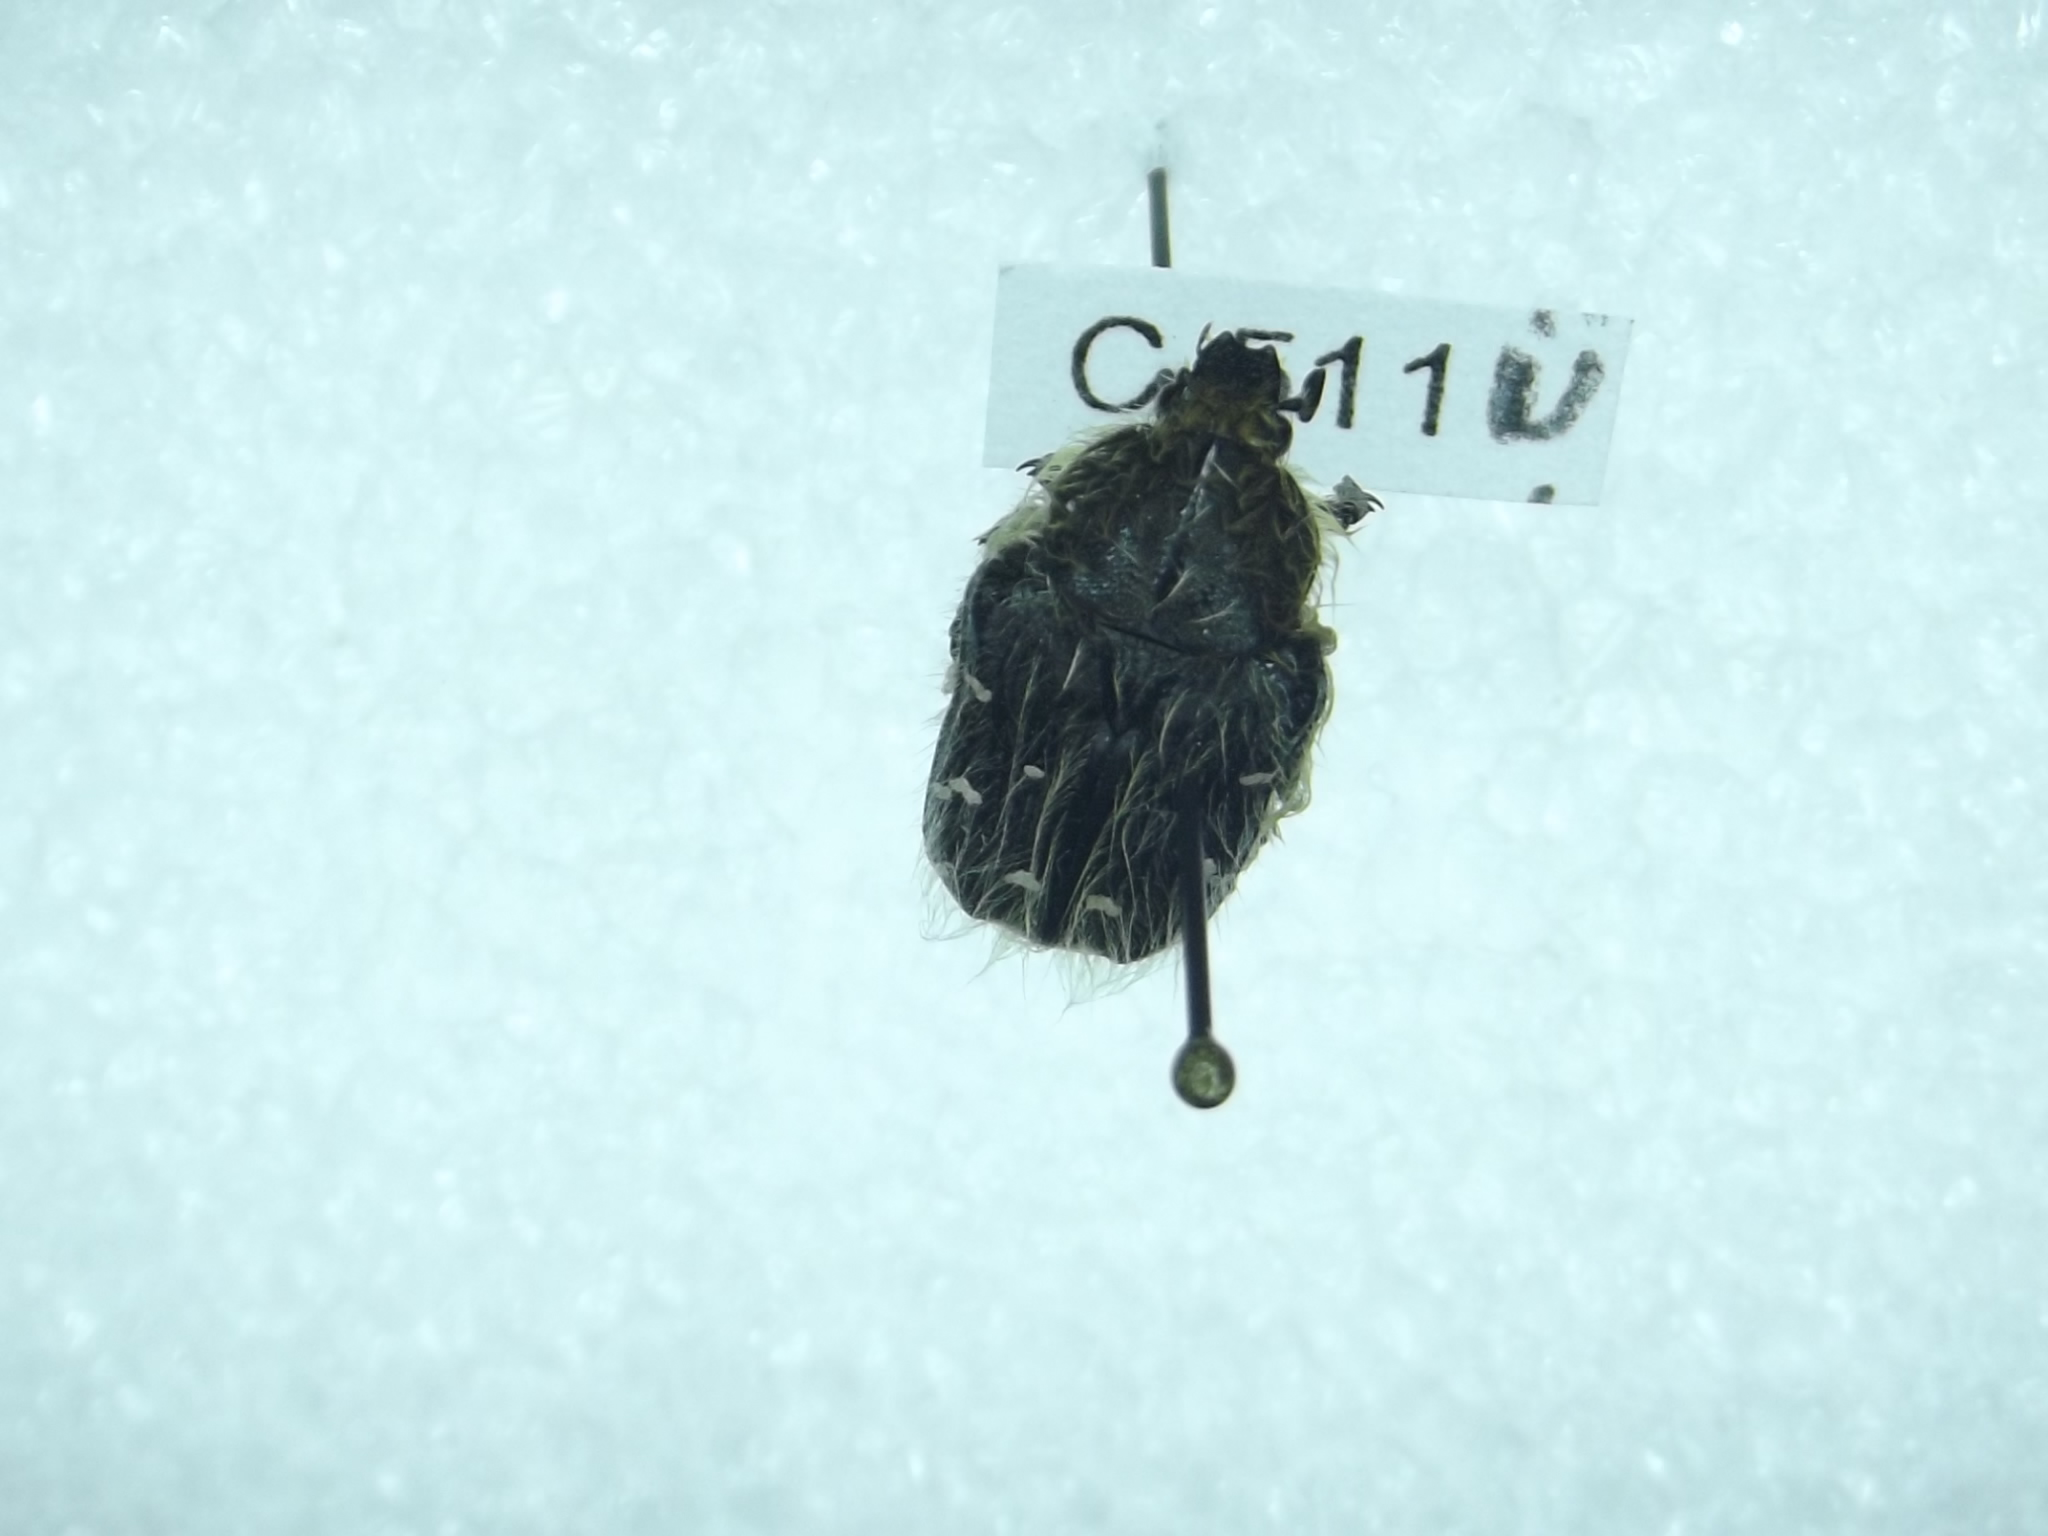Tropinota_senicula: (921, 315, 1401, 986)
